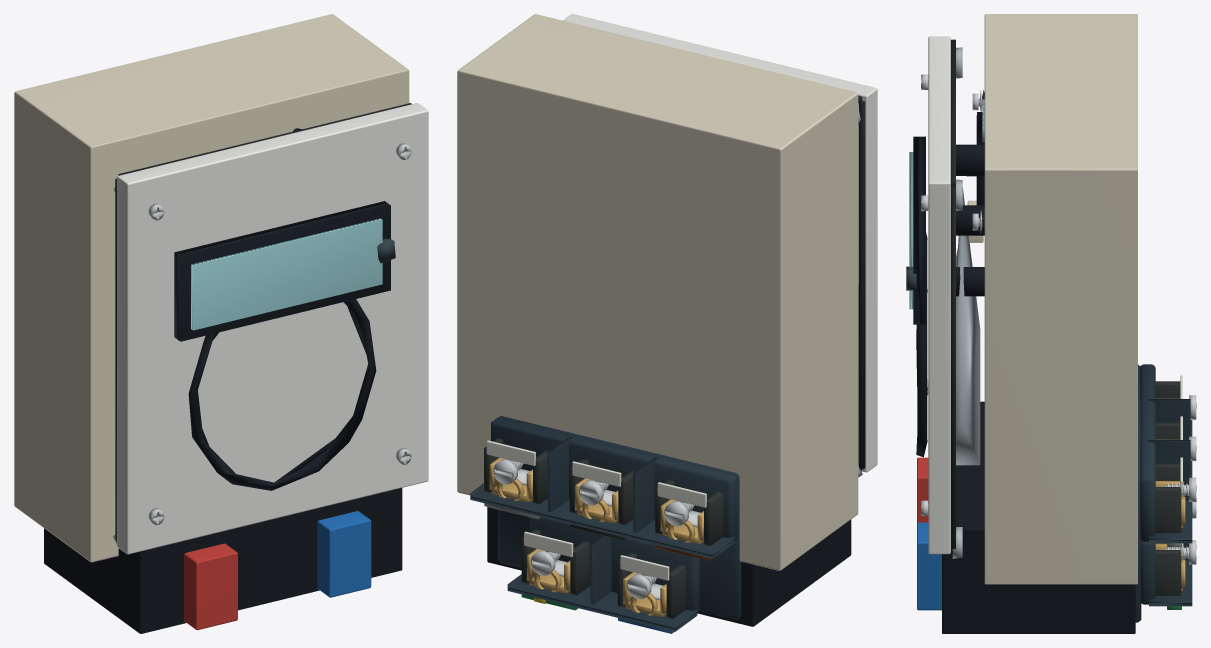
File: source3_default.low.glb
The picture shows the model from 3 angles, left to right: view 1: azimuth 30°, elevation 25°; view 2: azimuth 150°, elevation 25°; view 3: azimuth 270°, elevation 25°; orthographic projection.
Visible parts, largest first — view 1: part:cover, part:body, part:display, part:body.003, detail:enclosure-gasket-and-fixings · Detail rubber gasket, detail:enclosure-gasket-and-fixings · Detail zinc plated fix; view 2: part:body, part:terminals · Original a463fd81, part:cover, detail:enclosure-gasket-and-fixings · Detail rubber gasket, detail:terminal-clamp:N · Detail moulded engineering polymer, detail:terminal-clamp:L1 · Detail moulded engineering polyme, detail:terminal-clamp:PE · Detail moulded engineering polyme, detail:terminal-clamp:L2 · Detail moulded engineering polyme, detail:terminal-clamp:L3 · Detail moulded engineering polyme, detail:terminal-clamp:L3 · Detail machined brass, detail:terminal-clamp:L1 · Detail machined brass, detail:terminal-clamp:L2 · Detail machined brass (+12 smaller); view 3: part:body, part:cover, part:terminals · Original a463fd81, part:body.001, part:body.002 · Original 3ff2d46d, part:display, detail:enclosure-gasket-and-fixings · Detail rubber gasket, part:body.003, detail:terminal-clamp:L3 · Detail moulded engineering polyme, detail:terminal-clamp:PE · Detail moulded engineering polyme, part:mounting · Original 2a8198d3, detail:terminal-clamp:L1 · Detail moulded engineering polyme (+2 smaller).
Boxes of the visible parts, box(x1,y1,x2,y2) form: part:cover: box(117, 103, 428, 554); part:body: box(14, 14, 409, 633); part:display: box(174, 201, 390, 341); part:body.003: box(184, 511, 371, 630); detail:enclosure-gasket-and-fixings · Detail rubber gasket: box(115, 103, 411, 540); detail:enclosure-gasket-and-fixings · Detail zinc plated fix: box(148, 143, 411, 525); part:body: box(457, 14, 858, 626); part:terminals · Original a463fd81: box(470, 416, 741, 631); part:cover: box(563, 14, 877, 472); detail:enclosure-gasket-and-fixings · Detail rubber gasket: box(858, 96, 865, 470); detail:terminal-clamp:N · Detail moulded engineering polymer: box(617, 553, 685, 619); detail:terminal-clamp:L1 · Detail moulded engineering polyme: box(655, 480, 723, 546); detail:terminal-clamp:PE · Detail moulded engineering polyme: box(521, 529, 589, 595); detail:terminal-clamp:L2 · Detail moulded engineering polyme: box(569, 459, 634, 539); detail:terminal-clamp:L3 · Detail moulded engineering polyme: box(484, 438, 548, 504); detail:terminal-clamp:L3 · Detail machined brass: box(489, 457, 532, 502); detail:terminal-clamp:L1 · Detail machined brass: box(660, 499, 703, 543); detail:terminal-clamp:L2 · Detail machined brass: box(575, 478, 618, 523); part:body: box(942, 14, 1137, 633); part:cover: box(916, 36, 950, 554); part:terminals · Original a463fd81: box(1135, 364, 1192, 622); part:body.001: box(956, 187, 980, 465); part:body.002 · Original 3ff2d46d: box(956, 112, 984, 296); part:display: box(909, 136, 925, 324); detail:enclosure-gasket-and-fixings · Detail rubber gasket: box(951, 39, 955, 551); part:body.003: box(917, 457, 941, 610); detail:terminal-clamp:L3 · Detail moulded engineering polyme: box(1155, 463, 1182, 532); detail:terminal-clamp:PE · Detail moulded engineering polyme: box(1155, 543, 1182, 595); part:mounting · Original 2a8198d3: box(952, 47, 962, 558); detail:terminal-clamp:L1 · Detail moulded engineering polyme: box(1155, 381, 1180, 398).
Size of the model in its own units: 0.77 by 1.11 by 0.6054.
